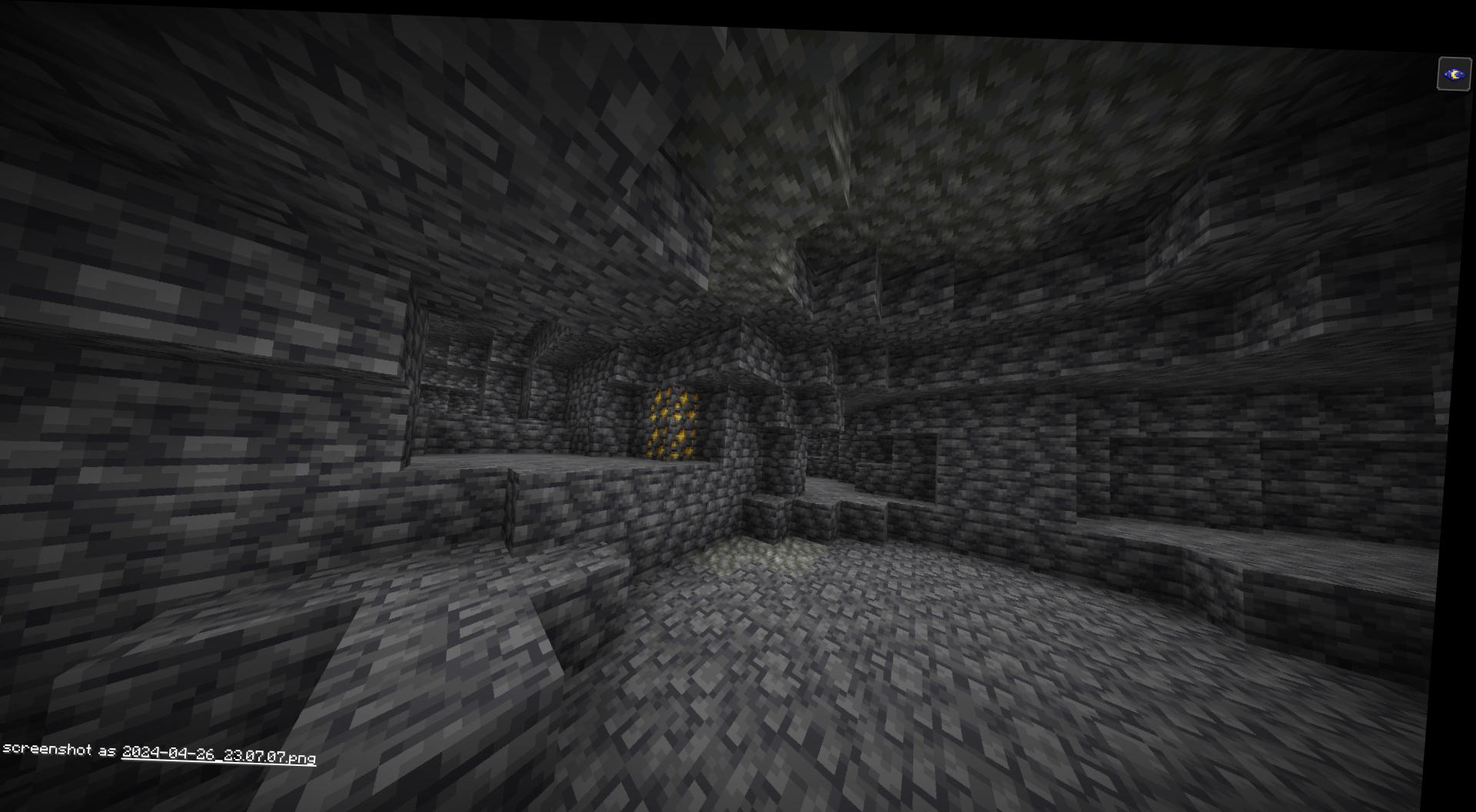gold ore: (649, 376, 708, 418), (653, 420, 704, 456)
